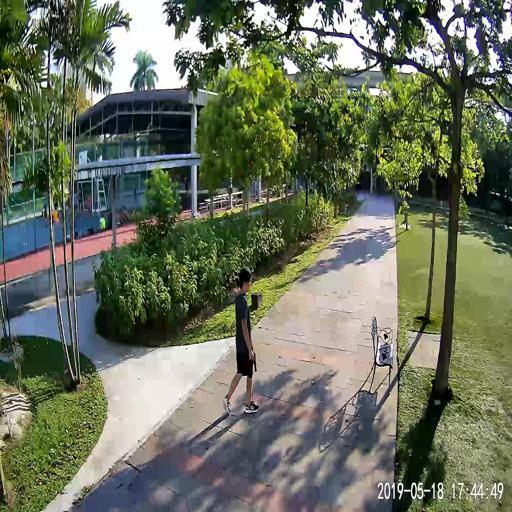Handgun: (249, 351, 256, 372)
